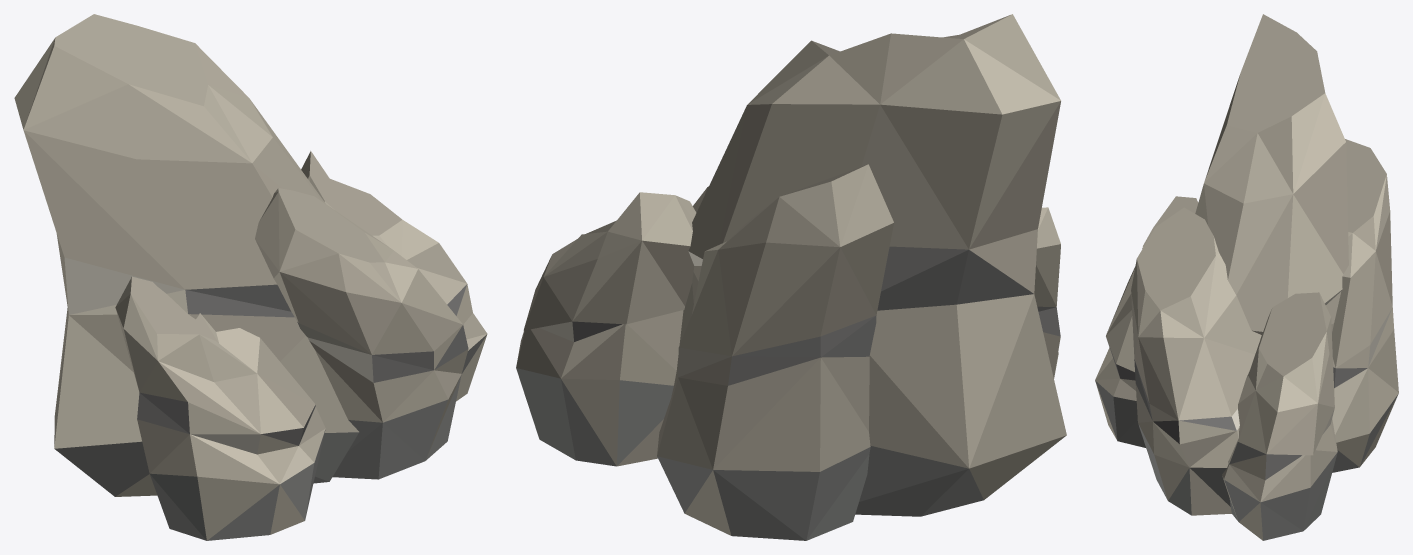
File: highland_granite_slab.glb
The picture shows the model from 3 angles, left to right: view 1: azimuth 30°, elevation 25°; view 2: azimuth 150°, elevation 25°; view 3: azimuth 270°, elevation 25°; orthographic projection. The views are drawn at different scales.
Parts seen in each view (by area): view 1: highland_granite_slab; view 2: highland_granite_slab; view 3: highland_granite_slab.
Boxes of the visible parts, left/top/right/bottom form: highland_granite_slab: left=14, top=14, right=487, bottom=540; highland_granite_slab: left=516, top=14, right=1066, bottom=540; highland_granite_slab: left=1095, top=14, right=1398, bottom=540.
Size of the model in its own units: 3.2 by 2.93 by 2.22.
